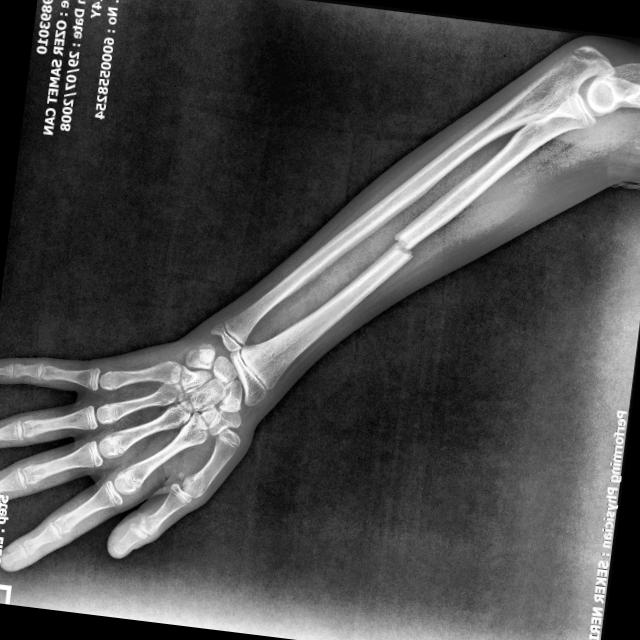Fracture: (386, 232, 419, 260)
